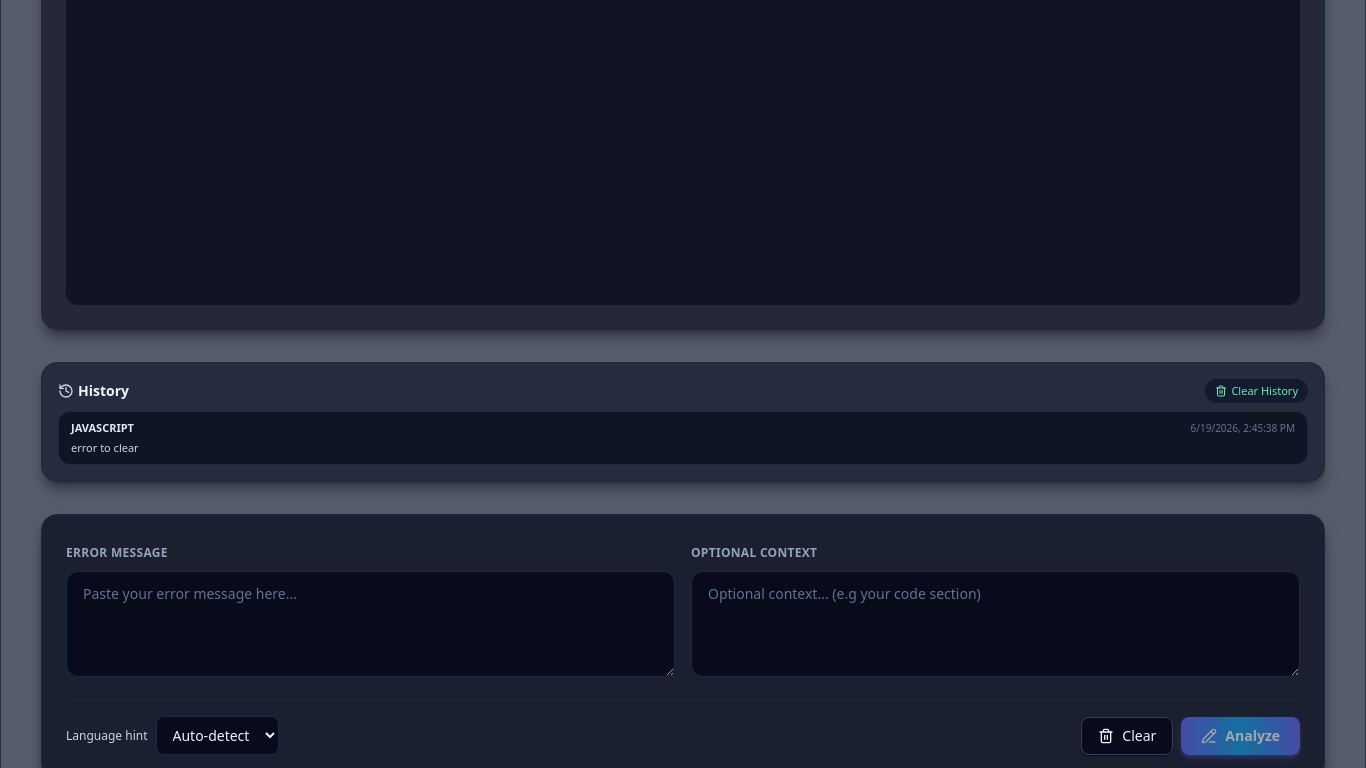
Test: AnalyzerPage Component › clears history when Clear History button is clicked
(page scrolled)
What coordinates should you click on to do the following:
click the button "Clear History"
I would click on:
 (1257, 391)
Its box is [1205,378,1308,403].
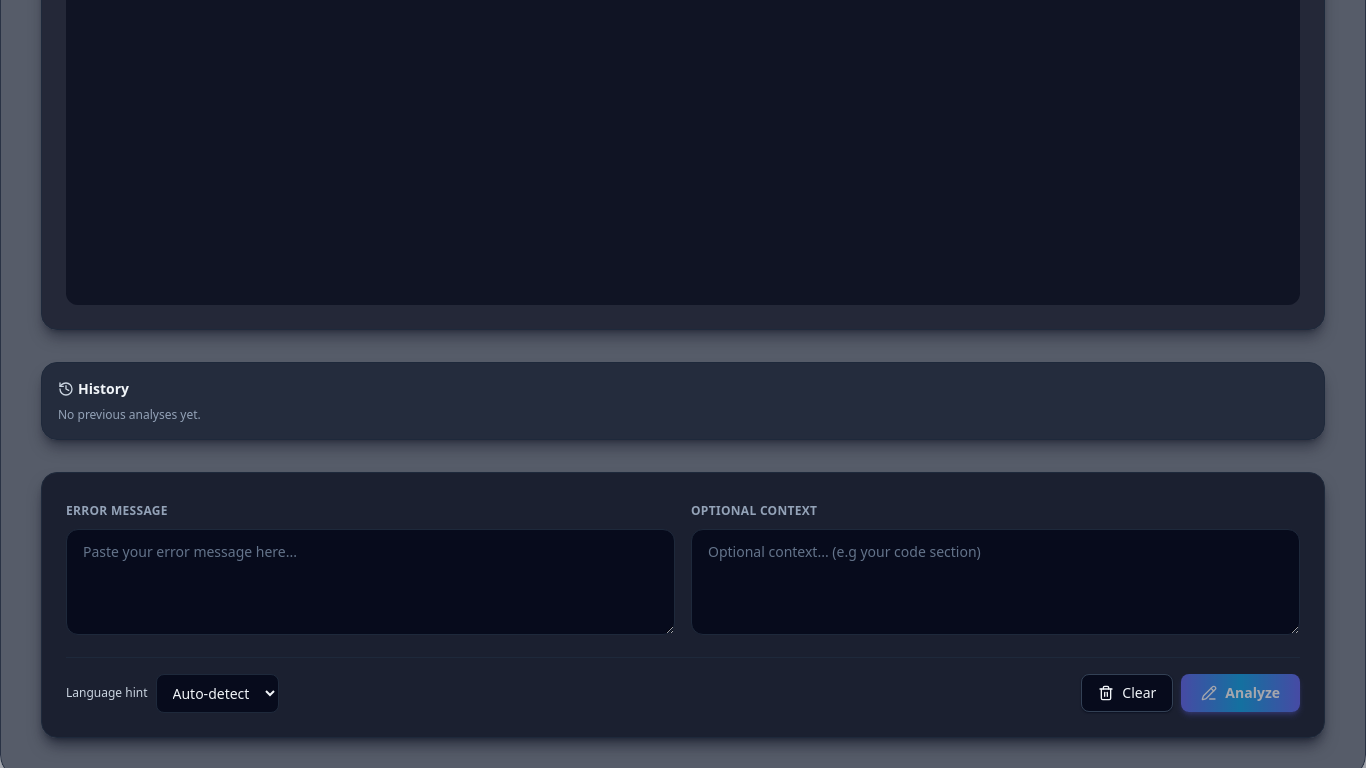
Check: the button "error to clear" is gone
